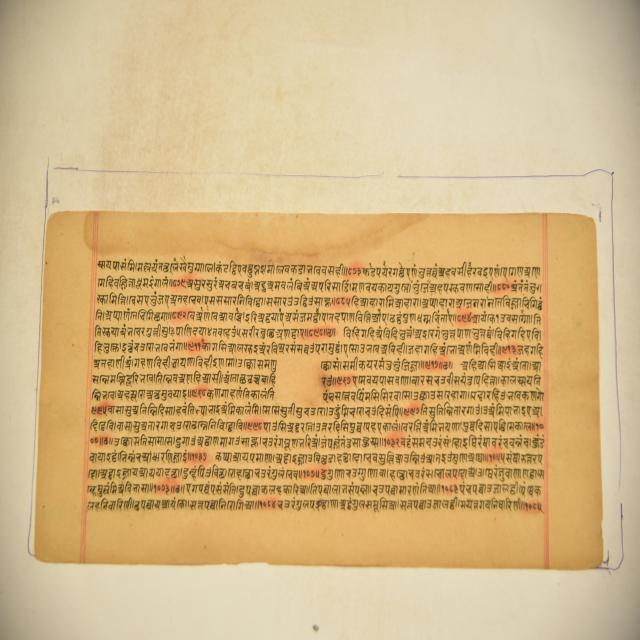text_paragraph: (33, 209, 600, 569)
